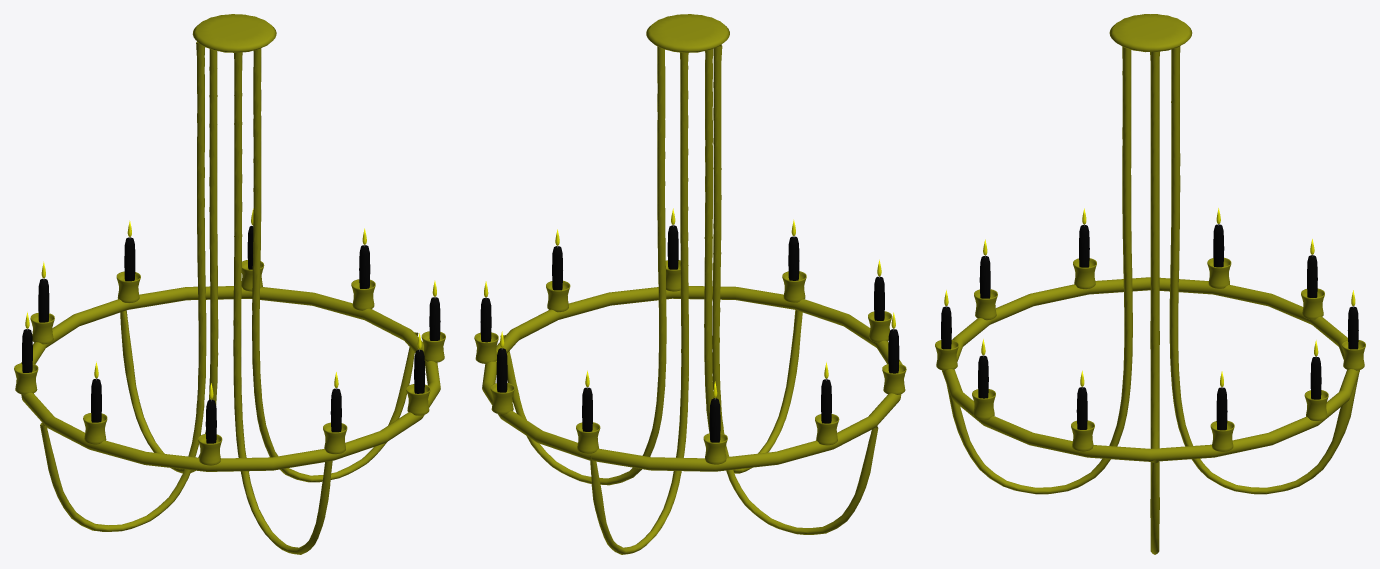
Rendered from candelabro.obj.
The picture shows the model from 3 angles, left to right: view 1: azimuth 30°, elevation 25°; view 2: azimuth 150°, elevation 25°; view 3: azimuth 270°, elevation 25°; orthographic projection.
Parts seen in each view (by area): view 1: pTorus1 group2, group2 nurbsToPoly4, group2 nurbsToPoly2, group2 nurbsToPoly3, group2 nurbsToPoly1, group2 pCylinder1, group2 pCylinder4, group2 pCylinder25, group2 pCylinder22, group2 pCylinder19, group2 pCylinder10, group2 pCylinder28 (+3 smaller); view 2: pTorus1 group2, group2 nurbsToPoly1, group2 nurbsToPoly4, group2 nurbsToPoly3, group2 nurbsToPoly2, group2 pCylinder1, group2 pCylinder31, group2 pCylinder19, group2 pCylinder16, group2 pCylinder28, group2 pCylinder13, group2 pCylinder7 (+3 smaller); view 3: pTorus1 group2, group2 nurbsToPoly1, group2 nurbsToPoly2, group2 nurbsToPoly3, group2 pCylinder1, group2 pCylinder25, group2 pCylinder7, group2 pCylinder10, group2 pCylinder4, group2 pCylinder22, group2 pCylinder28, group2 pCylinder31 (+3 smaller).
Part boxes in pixels (box(x1,y1,x2,y2)): pTorus1 group2: box(21, 286, 440, 471); group2 nurbsToPoly4: box(40, 41, 206, 531); group2 nurbsToPoly2: box(233, 52, 332, 554); group2 nurbsToPoly3: box(252, 48, 418, 482); group2 nurbsToPoly1: box(120, 49, 218, 473); group2 pCylinder1: box(192, 14, 276, 52); group2 pCylinder4: box(406, 384, 430, 415); group2 pCylinder25: box(83, 413, 107, 444); group2 pCylinder22: box(198, 434, 222, 465); group2 pCylinder19: box(323, 422, 347, 454); group2 pCylinder10: box(351, 279, 375, 310); group2 pCylinder28: box(14, 363, 38, 394); pTorus1 group2: box(482, 286, 902, 471); group2 nurbsToPoly1: box(590, 52, 688, 554); group2 nurbsToPoly4: box(712, 44, 878, 534); group2 nurbsToPoly3: box(500, 46, 666, 485); group2 nurbsToPoly2: box(704, 49, 802, 473); group2 pCylinder1: box(646, 14, 729, 52); group2 pCylinder31: box(703, 433, 727, 464); group2 pCylinder19: box(782, 271, 806, 302); group2 pCylinder16: box(576, 422, 600, 453); group2 pCylinder28: box(815, 414, 839, 445); group2 pCylinder13: box(490, 383, 514, 414); group2 pCylinder7: box(546, 280, 570, 312); pTorus1 group2: box(942, 277, 1359, 461); group2 nurbsToPoly1: box(1169, 46, 1358, 494); group2 nurbsToPoly2: box(946, 47, 1132, 494); group2 nurbsToPoly3: box(1150, 51, 1159, 554); group2 pCylinder1: box(1109, 14, 1192, 52); group2 pCylinder25: box(1073, 258, 1096, 289); group2 pCylinder7: box(1071, 420, 1094, 451); group2 pCylinder10: box(1210, 420, 1234, 451); group2 pCylinder4: box(972, 389, 995, 419); group2 pCylinder22: box(974, 289, 997, 320); group2 pCylinder28: box(1207, 257, 1231, 288); group2 pCylinder31: box(1301, 288, 1324, 319).
Size of the model in its own units: 12.33 by 14.84 by 12.35.
